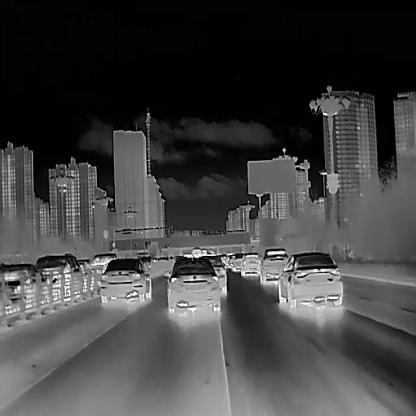car: (277, 251, 342, 308), (162, 256, 221, 312), (33, 253, 83, 306), (0, 263, 45, 312), (99, 258, 148, 302), (258, 247, 289, 285), (88, 251, 116, 289), (239, 251, 260, 275), (231, 251, 240, 271), (191, 247, 200, 259)
